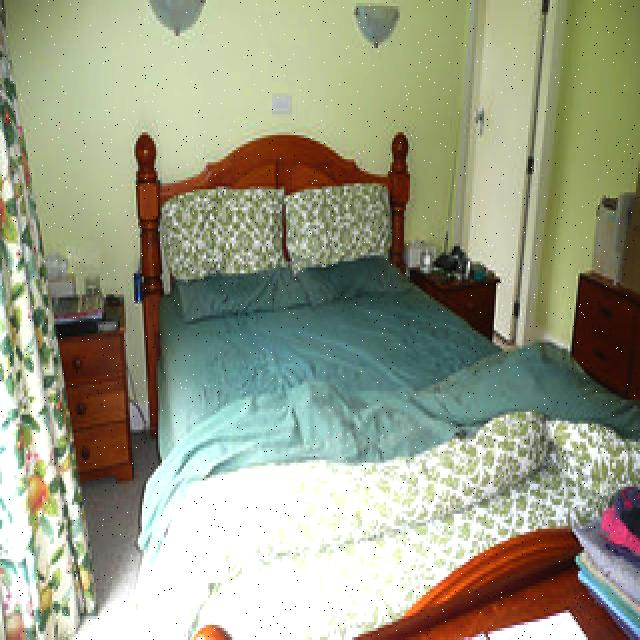bed: (121, 172, 640, 580)
